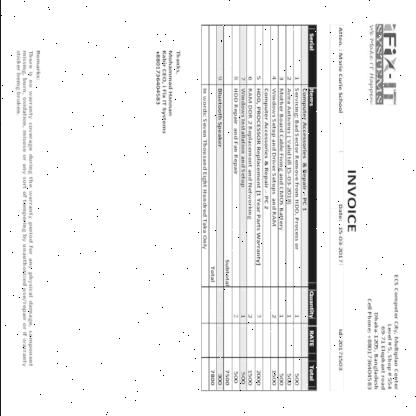Paragraph: (10, 45, 42, 372), (364, 272, 400, 393), (153, 48, 181, 136), (346, 168, 356, 233), (336, 26, 342, 115), (336, 203, 343, 267), (337, 328, 343, 372)
Table: (200, 25, 316, 390)
